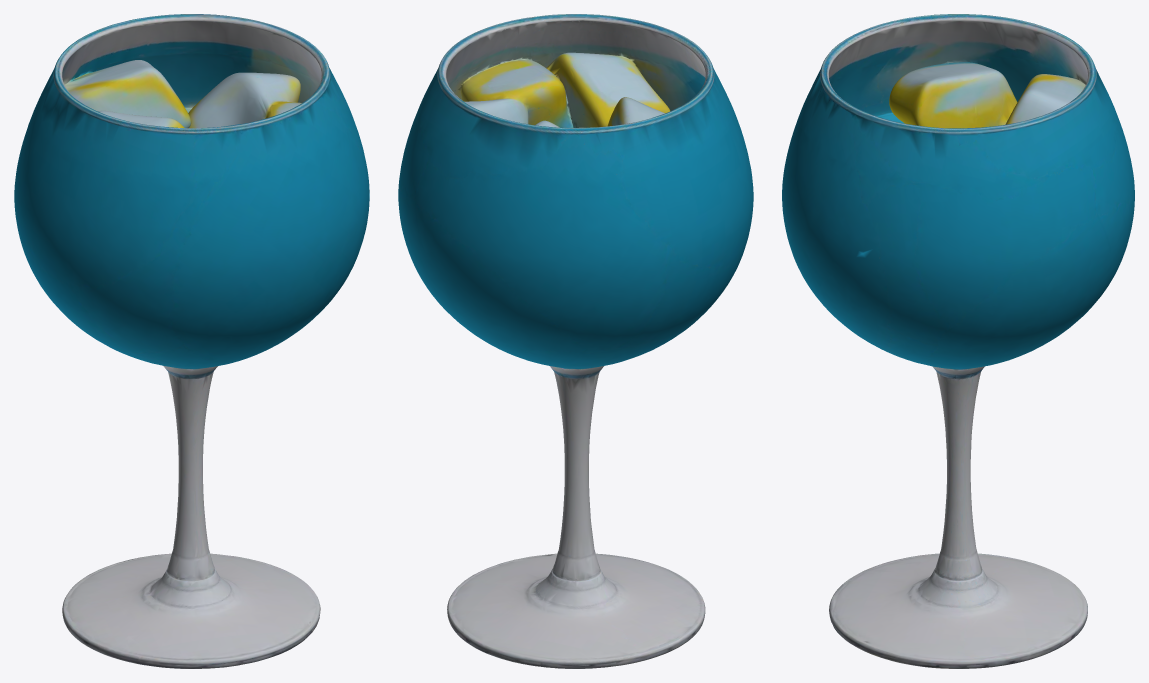
The picture shows the model from 3 angles, left to right: view 1: azimuth 30°, elevation 25°; view 2: azimuth 150°, elevation 25°; view 3: azimuth 270°, elevation 25°; orthographic projection.
Parts seen in each view (by area): view 1: material; view 2: material; view 3: material.
Boxes of the visible parts, left/top/right/bottom form: material: left=14, top=14, right=369, bottom=668; material: left=398, top=14, right=753, bottom=668; material: left=782, top=14, right=1134, bottom=668.
Bounding box in the file's own units: 0.647 × 1.09 × 0.6413.
Materials: 1 (1 with a texture image).
